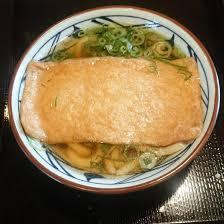kitune: (8, 9, 222, 185)
